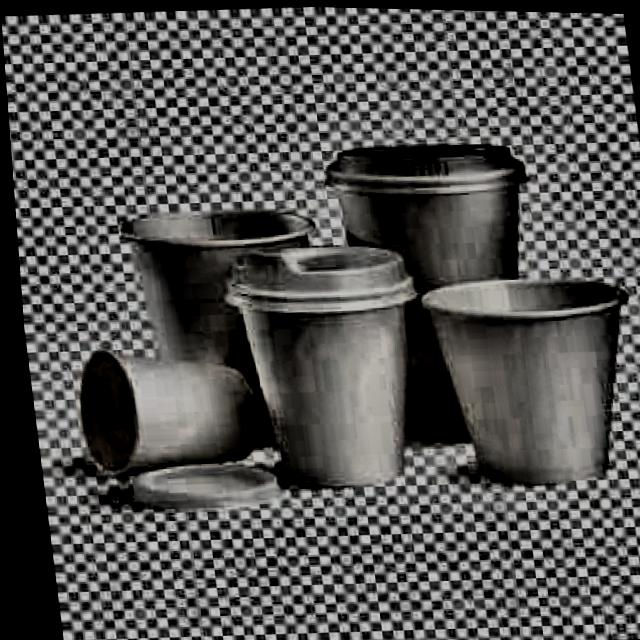Cup: (314, 124, 565, 444), (102, 179, 335, 464), (207, 240, 424, 499), (413, 271, 640, 495), (56, 344, 264, 485)
